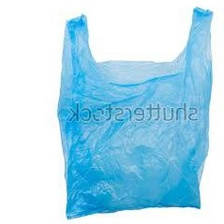plastic_bag: (50, 4, 224, 220)
